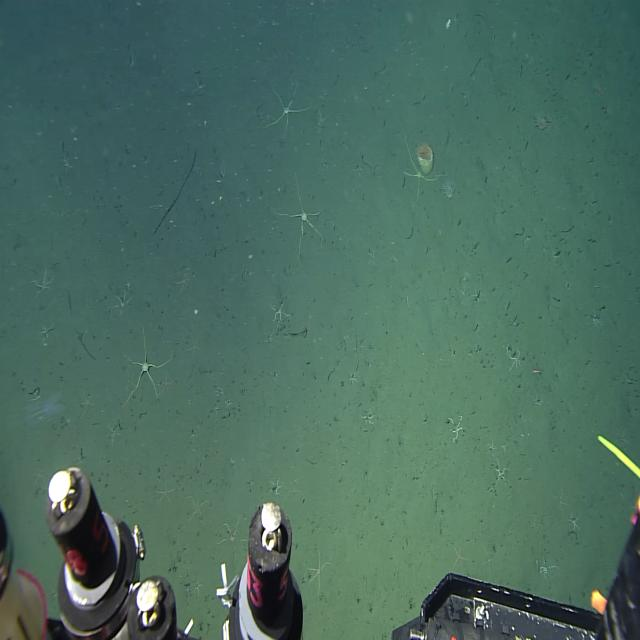Brittle Star: (267, 171, 333, 259), (115, 324, 178, 410), (256, 76, 317, 140), (300, 548, 338, 596), (210, 512, 249, 554), (24, 264, 61, 300), (166, 264, 202, 297), (104, 286, 139, 318), (148, 474, 182, 506), (263, 296, 296, 327), (530, 552, 563, 583), (182, 493, 214, 523), (500, 342, 530, 374), (442, 413, 471, 444), (446, 541, 473, 569), (487, 458, 514, 486), (180, 334, 209, 360), (355, 405, 383, 431), (341, 366, 365, 388)
